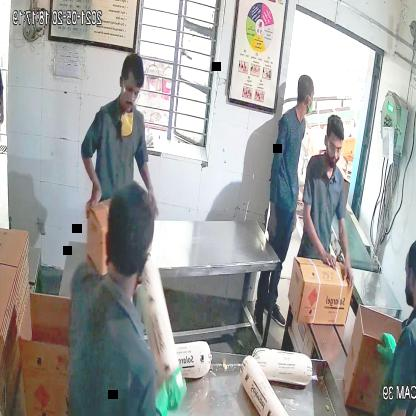goggles: (118, 80, 145, 102), (326, 136, 346, 156)
